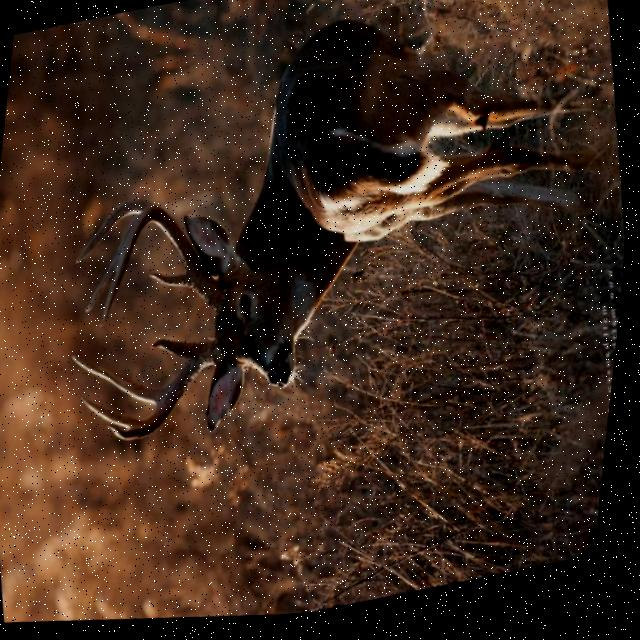L-F: (110, 340, 227, 443)
L-G1: (153, 341, 203, 363)
L-G2: (74, 354, 167, 406)
L-G3: (84, 398, 144, 431)
R-F: (101, 206, 229, 329)
R-G1: (150, 273, 194, 291)
R-G2: (77, 202, 156, 265)
R-G3: (87, 261, 119, 314)
